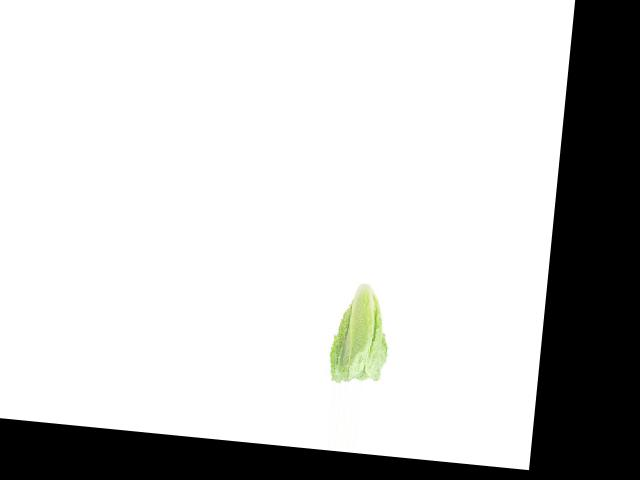lettuce: (322, 278, 397, 388)
